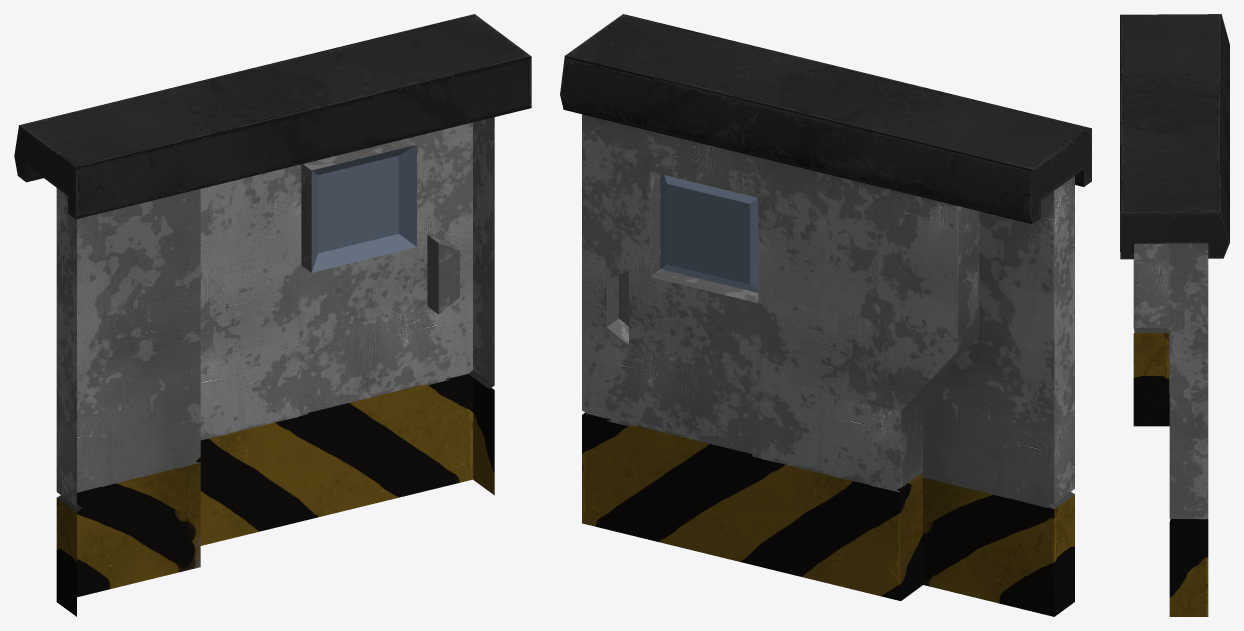
File: Door.fbx
3 renders of one model, left to right at view 1: azimuth 30°, elevation 25°; view 2: azimuth 150°, elevation 25°; view 3: azimuth 270°, elevation 25°, orthographic. The views are drawn at different scales.
Visible parts, largest first — view 1: Metal_Door_2, Metal_Door_1, Slider; view 2: Metal_Door_2, Slider, Metal_Door_1; view 3: Slider, Metal_Door_2, Metal_Door_1.
Part boxes in pixels (left/top/right/bottom): Metal_Door_2: left=184, top=117, right=494, bottom=547; Metal_Door_1: left=56, top=188, right=200, bottom=616; Slider: left=14, top=14, right=531, bottom=218; Metal_Door_2: left=582, top=114, right=979, bottom=600; Slider: left=560, top=14, right=1091, bottom=223; Metal_Door_1: left=919, top=176, right=1074, bottom=616; Slider: left=1120, top=14, right=1229, bottom=259; Metal_Door_2: left=1169, top=243, right=1208, bottom=616; Metal_Door_1: left=1133, top=243, right=1169, bottom=426.
Bounding box in the file's own units: 3.12 × 3 × 0.7301.
